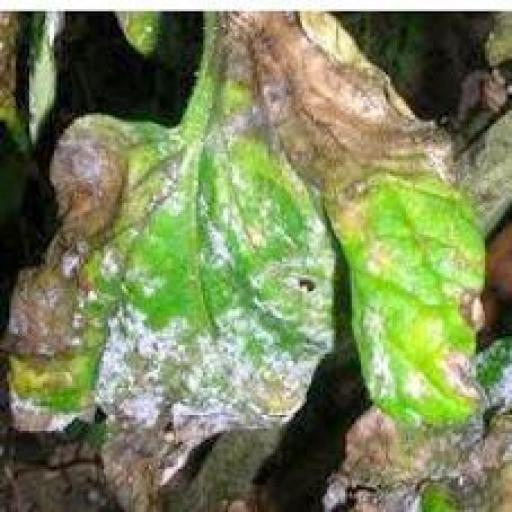disease_tomato: (0, 11, 492, 511)
